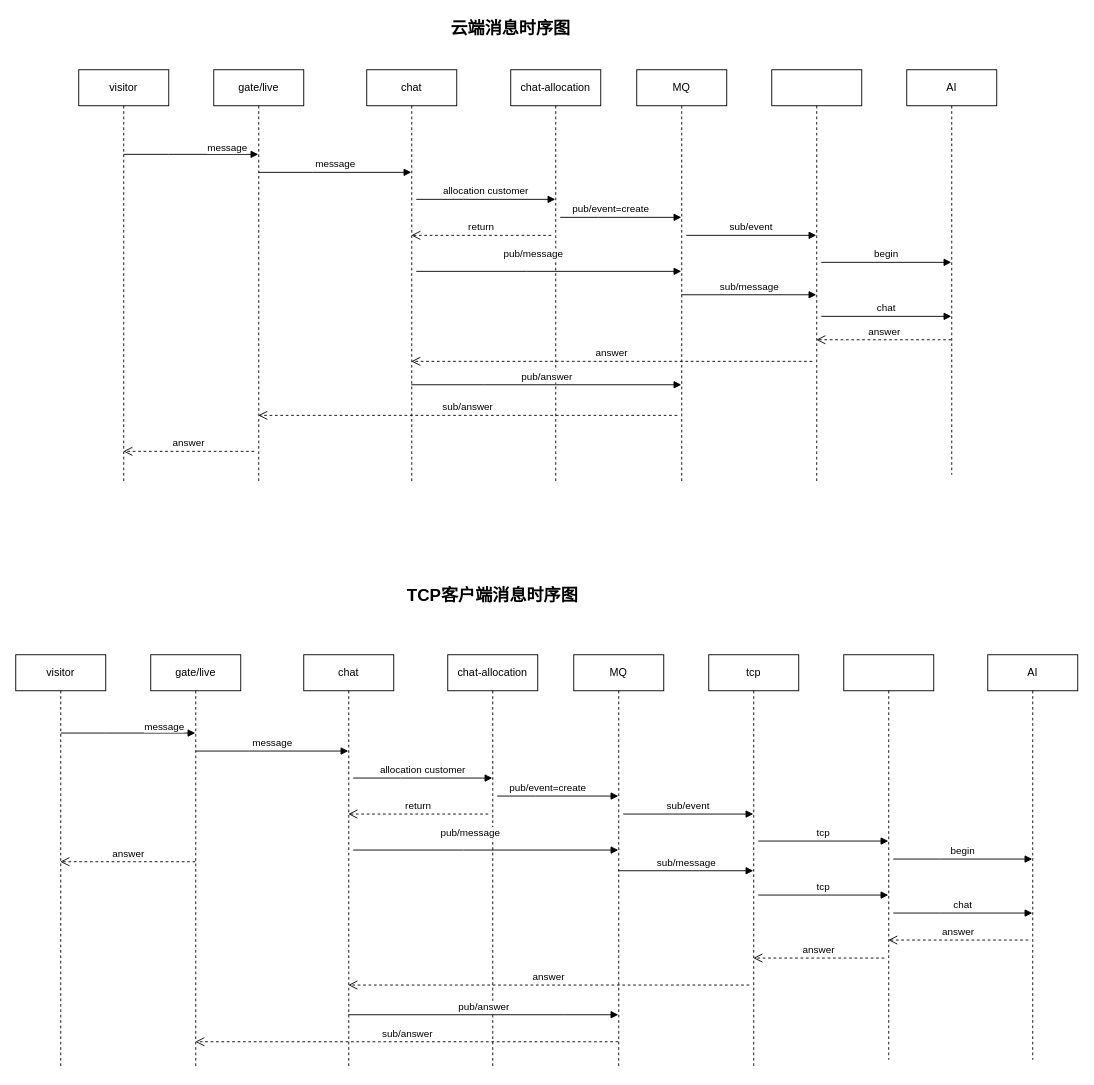
This 1094x1085 diagram has some shape labels left out. The shapes that lost their labels are listed below. From the top down, each one's centre as x and y in pixels, then its label:
At point 816,276: "trust".
At point 888,857: "client".
